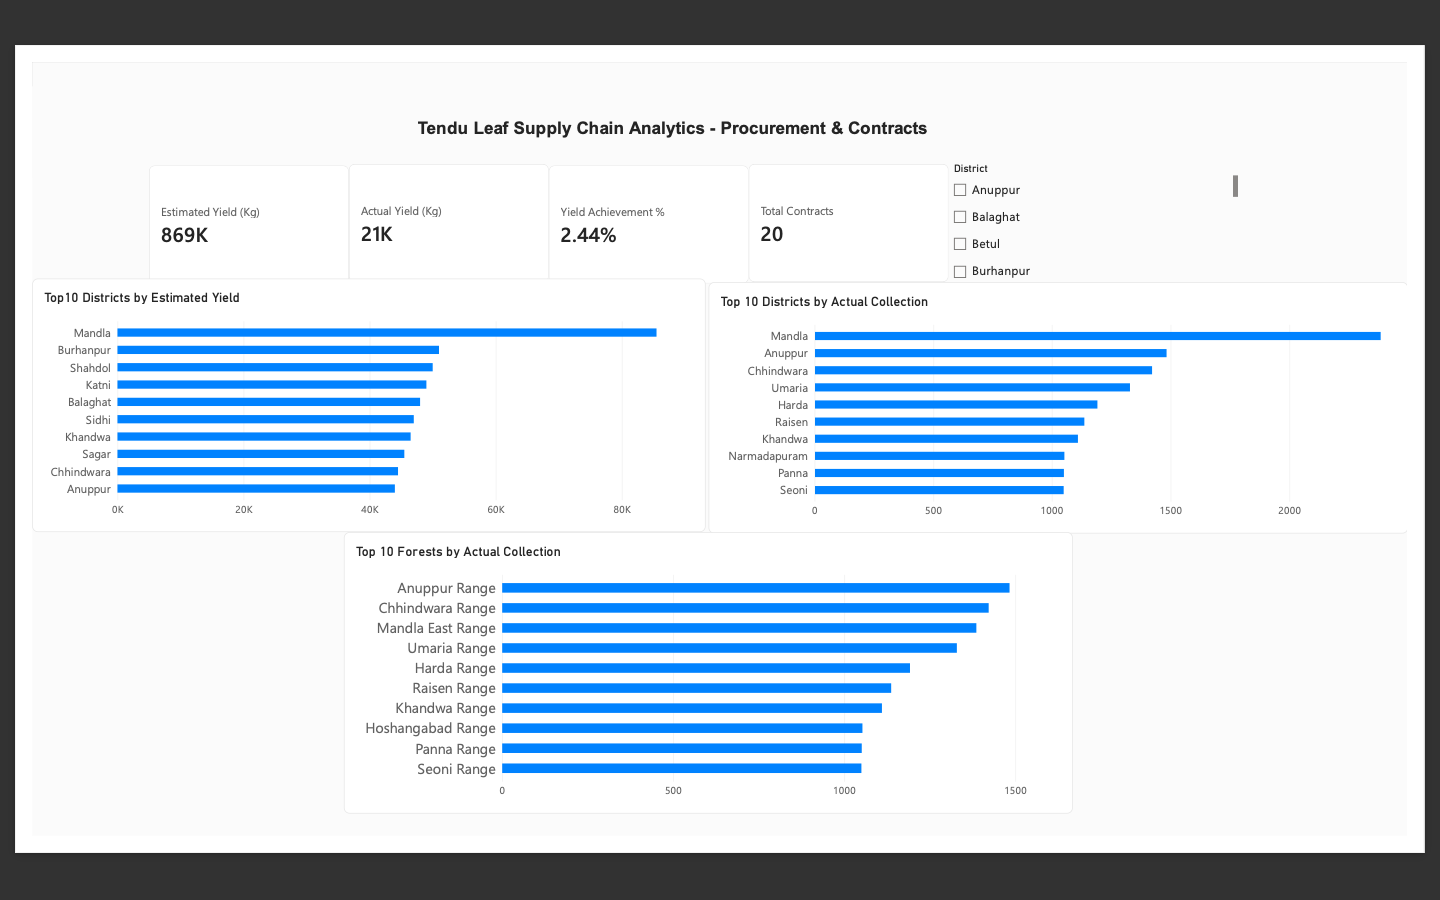

The page's visual inventory and layout, read from the dashboard file:
{"tool":"powerbi","page":{"name":"Procurement & Contracts","canvas":[1920,1080],"ordinal":1},"visuals":[{"type":"textbox","box":[10,0,280,280],"z":0},{"type":"textbox","box":[537.9,75.6,967.8,64.8],"z":1000},{"type":"cardVisual","fields":{"Data":["Contracts.Estimated Yield"]},"box":[162.8,144.2,279.1,165.1],"z":2000},{"type":"cardVisual","fields":{"Data":["Collection.Actual Yield"]},"box":[441.9,141.9,279.1,165.1],"z":3000},{"type":"cardVisual","fields":{"Data":["Contracts.Yield Achievement %"]},"box":[720.9,144.2,279.1,165.1],"z":4000},{"type":"cardVisual","fields":{"Data":["CountNonNull(Contracts.Contract_ID)"]},"box":[1000,141.9,279.1,165.1],"z":5000},{"type":"clusteredBarChart","title":"Top10 Districts by Estimated Yield","fields":{"Category":["Forests.District"],"Y":["Contracts.Estimated Yield"]},"box":[0,302.3,939.5,353.5],"z":6000},{"type":"clusteredBarChart","title":"Top 10 Districts by Actual Collection","fields":{"Category":["Forests.District"],"Y":["Collection.Total Collection"]},"box":[944.2,307,976.7,351.2],"z":7000},{"type":"clusteredBarChart","title":"Top 10 Forests by Actual Collection","fields":{"Category":["Forests.Forest_Name"],"Y":["Collection.Total Collection"]},"box":[434.9,655.8,1018.6,393],"z":8000},{"type":"slicer","fields":{"Values":["Forests.District"]},"box":[1279.1,139.5,404.7,167.4],"z":9000}]}

Visuals, with their boxes on the page's 1920x1080 design canvas (x1, y1, x2, y2). These are canvas units, not pixel positions in the 1440x900 screenshot, which may show the page scaled, cropped or inside an application window:
textbox: bbox(10, 0, 290, 280)
textbox: bbox(538, 76, 1506, 140)
cardVisual - Contracts.Estimated Yield: bbox(163, 144, 442, 309)
cardVisual - Collection.Actual Yield: bbox(442, 142, 721, 307)
cardVisual - Contracts.Yield Achievement %: bbox(721, 144, 1000, 309)
cardVisual - CountNonNull(Contracts.Contract_ID): bbox(1000, 142, 1279, 307)
"Top10 Districts by Estimated Yield" clusteredBarChart: bbox(0, 302, 940, 656)
"Top 10 Districts by Actual Collection" clusteredBarChart: bbox(944, 307, 1921, 658)
"Top 10 Forests by Actual Collection" clusteredBarChart: bbox(435, 656, 1454, 1049)
slicer - Forests.District: bbox(1279, 140, 1684, 307)
